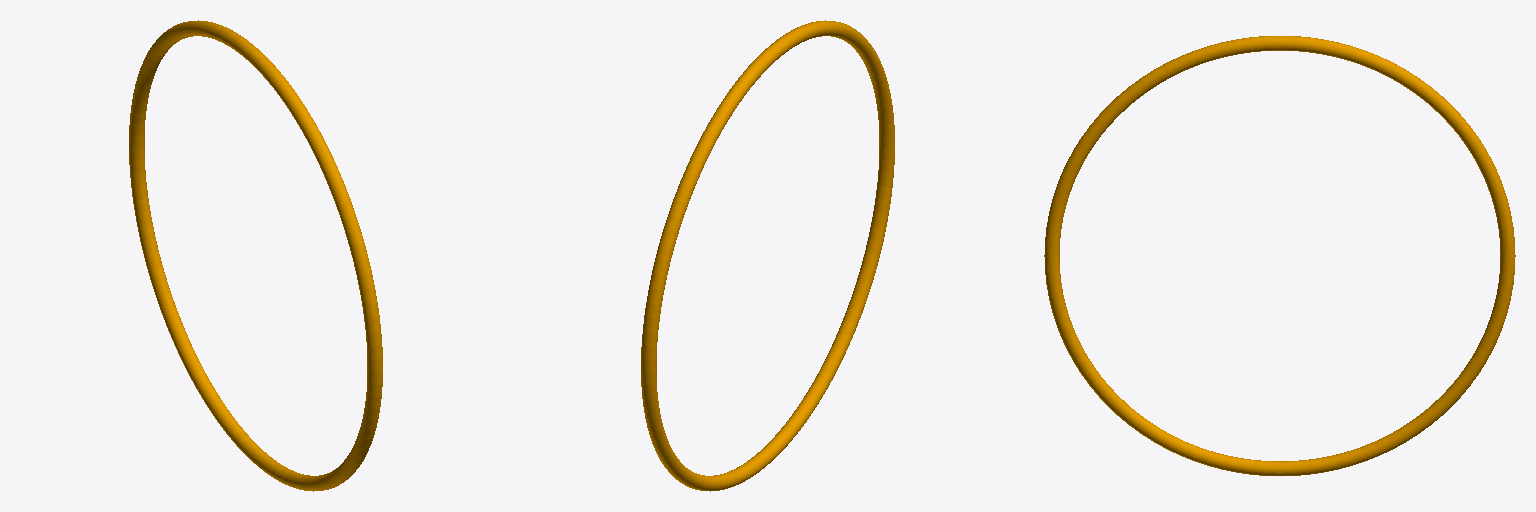
URDF robot description (holodeck):
<robot name="holodeck">
   <material name="Brown">
     <color rgba="83./255. 53./255. 10./255."/>
   </material>
   <material name="White">
     <color rgba="1 1 1"/>
   </material>
   <material name="Grey">
     <color rgba=".3 .3 .3"/>
   </material>
   <material name="Red">
     <color rgba="1 0 0"/>
   </material>
   
   <link name="red_hoop_1">
   	<inertial>
   		<mass value=".5" />
   		<origin xyz="0 0 0" rpy="0 0 0"/>
		  <inertia ixx="10"  ixy="0"  ixz="0" iyy="10" iyz="0" izz="10" />
   	</inertial>
  	<visual>
      <origin xyz="0 0 1.5" rpy="0 1.5 0" />
      <geometry>
        <mesh filename="mesh/hulahoop.stl" scale=".01"/>
      </geometry>
      <material name="Red"/>
    </visual>
    <collision>
      <origin xyz="0 0 0" rpy="0 0 0" />
      <geometry>
        <mesh filename="mesh/hulahoop.stl" scale=".01"/>
      </geometry>
    </collision>
   </link>

</robot>

--- What the picture shows (computed from the rendered views, not written in the file) ---
The picture shows the robot from 3 angles, left to right: view 1: azimuth 30°, elevation 25°; view 2: azimuth 150°, elevation 25°; view 3: azimuth 270°, elevation 25°; orthographic projection.
Robot: holodeck — 1 links, 0 joints (none); root link red_hoop_1; default pose: every joint at zero.
Visible links, largest first — view 1: red_hoop_1; view 2: red_hoop_1; view 3: red_hoop_1.
Boxes of the visible links, bbox=[...] form: red_hoop_1: bbox=[129, 20, 382, 491]; red_hoop_1: bbox=[641, 20, 894, 491]; red_hoop_1: bbox=[1044, 36, 1515, 475].
Bounding box of the posed robot: 0.1993 × 1.98 × 1.98 m (x, y, z).
1 mesh visuals loaded from 1 distinct referenced files (1 ASCII STL).
